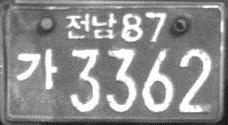2: (177, 46, 214, 114)
3: (104, 47, 137, 113), (69, 46, 100, 113)
6: (141, 48, 174, 113)
7: (143, 9, 167, 43)
8: (121, 13, 142, 43)
가: (15, 47, 57, 90)
전남_O: (65, 13, 118, 39)
